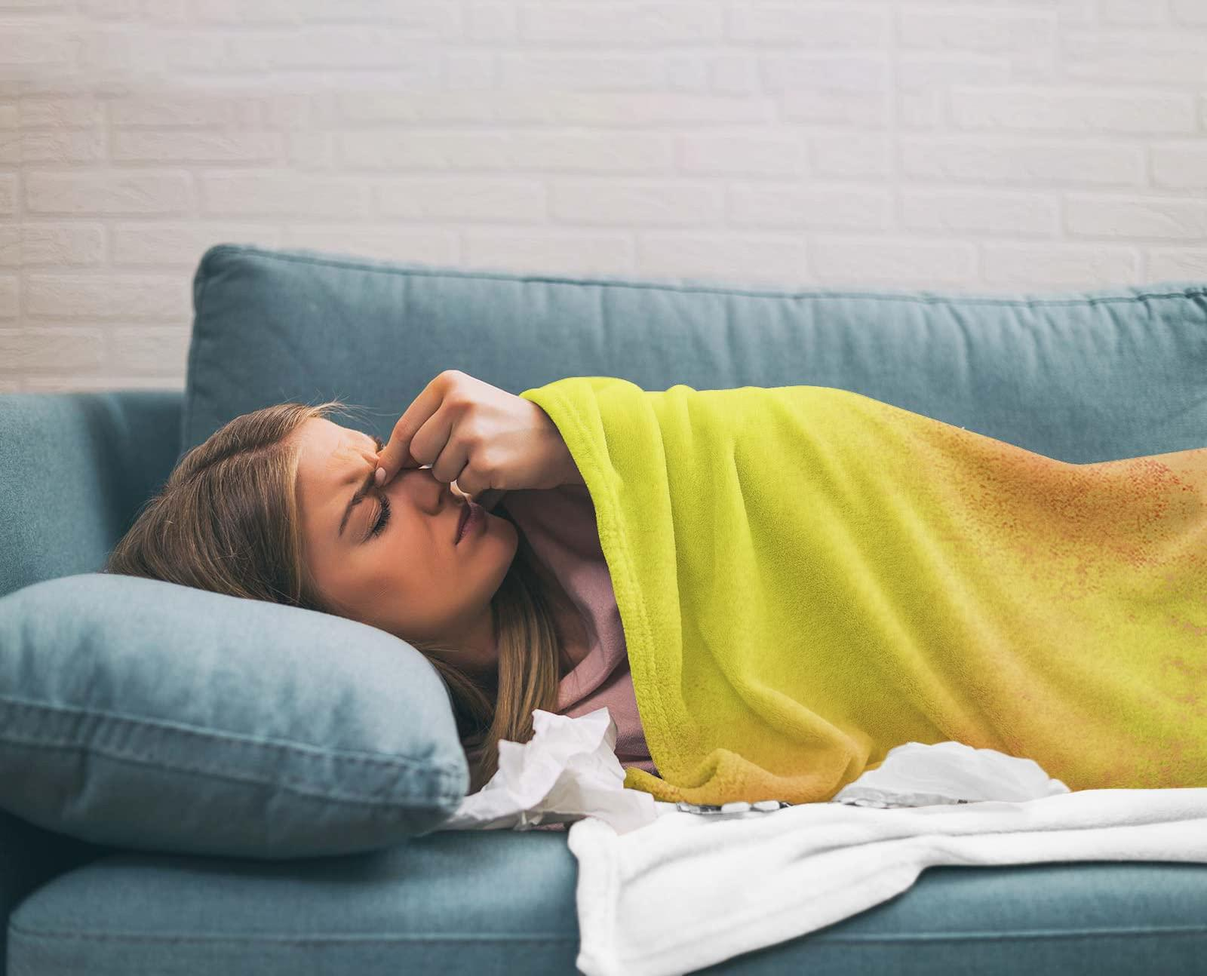blanket: (511, 323, 1207, 815)
